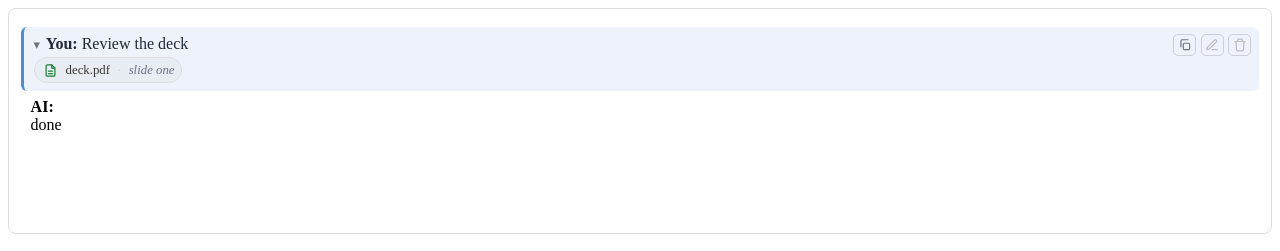
it: collapsing a structural turn hides the chip strip and shows the prompt preview
expect the element with test id "msg-documents" is shown: met, box left=34, top=57, right=182, bottom=83
Click the button with test id "question-toggle" at (37, 46), box left=34, top=39, right=40, bottom=52
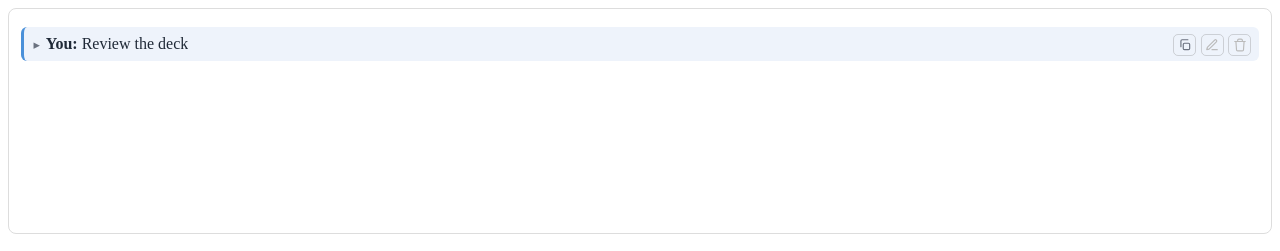
expect the element with test id "msg-user" shows "Review the deck": met, box left=82, top=35, right=188, bottom=52
expect the element with test id "msg-documents" is gone: met
